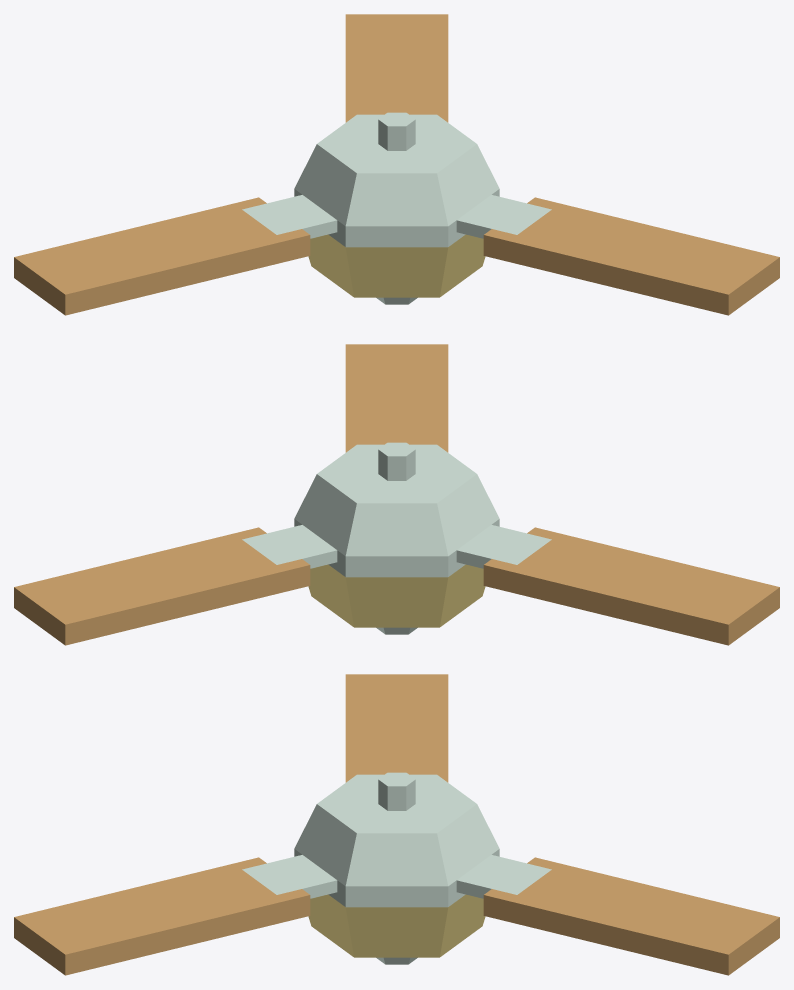
File: ceilingFan.glb
3 renders of one model, top to bottom at view 1: azimuth 30°, elevation 25°; view 2: azimuth 150°, elevation 25°; view 3: azimuth 270°, elevation 25°, orthographic.
Bounding box in the file's own units: 4.55 × 1.34 × 5.25.
